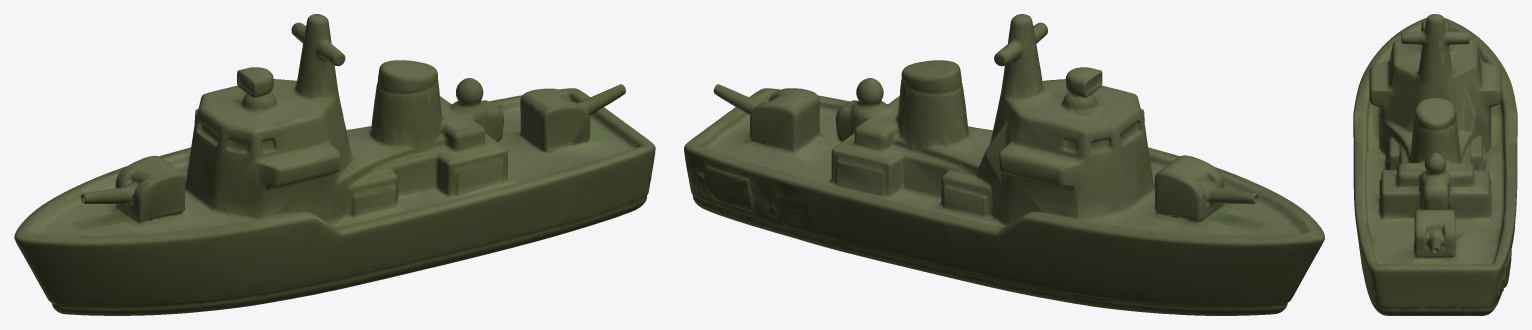
The picture shows the model from 3 angles, left to right: view 1: azimuth 30°, elevation 25°; view 2: azimuth 150°, elevation 25°; view 3: azimuth 270°, elevation 25°; orthographic projection. The views are drawn at different scales.
Visible parts, largest first — view 1: Mesh_0; view 2: Mesh_0; view 3: Mesh_0.
Boxes of the visible parts, x1=… form: Mesh_0: x1=14, y1=14, x2=655, y2=315; Mesh_0: x1=684, y1=14, x2=1324, y2=315; Mesh_0: x1=1353, y1=14, x2=1517, y2=315.
Size of the model in its own units: 1.9 by 0.7129 by 0.5617.
Materials: 1 (1 with a texture image).
